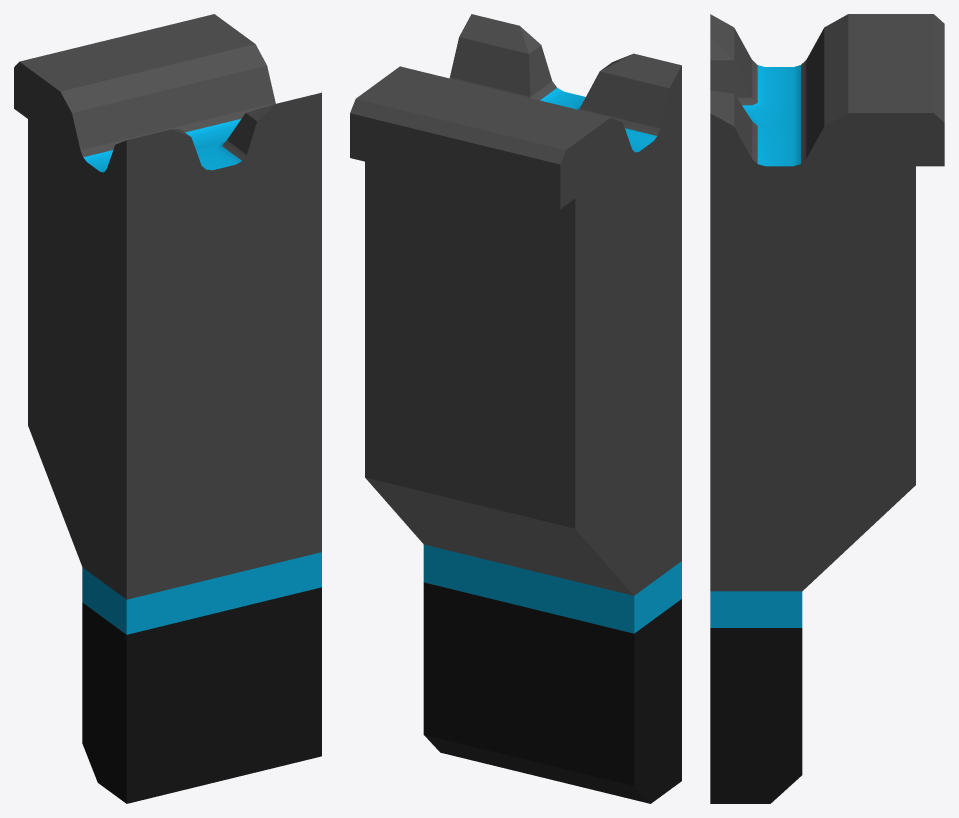
File: Floor_Edge_01x1_S.fbx
The picture shows the model from 3 angles, left to right: view 1: azimuth 30°, elevation 25°; view 2: azimuth 150°, elevation 25°; view 3: azimuth 270°, elevation 25°; orthographic projection. The views are drawn at different scales.
Visible parts, largest first — view 1: Floor_Edge_01x1_S; view 2: Floor_Edge_01x1_S; view 3: Floor_Edge_01x1_S.
Part boxes in pixels (x1=…): Floor_Edge_01x1_S: x1=14, y1=14, x2=321, y2=803; Floor_Edge_01x1_S: x1=350, y1=14, x2=681, y2=803; Floor_Edge_01x1_S: x1=710, y1=14, x2=944, y2=803.
Size of the model in its own units: 200 by 650 by 200.
